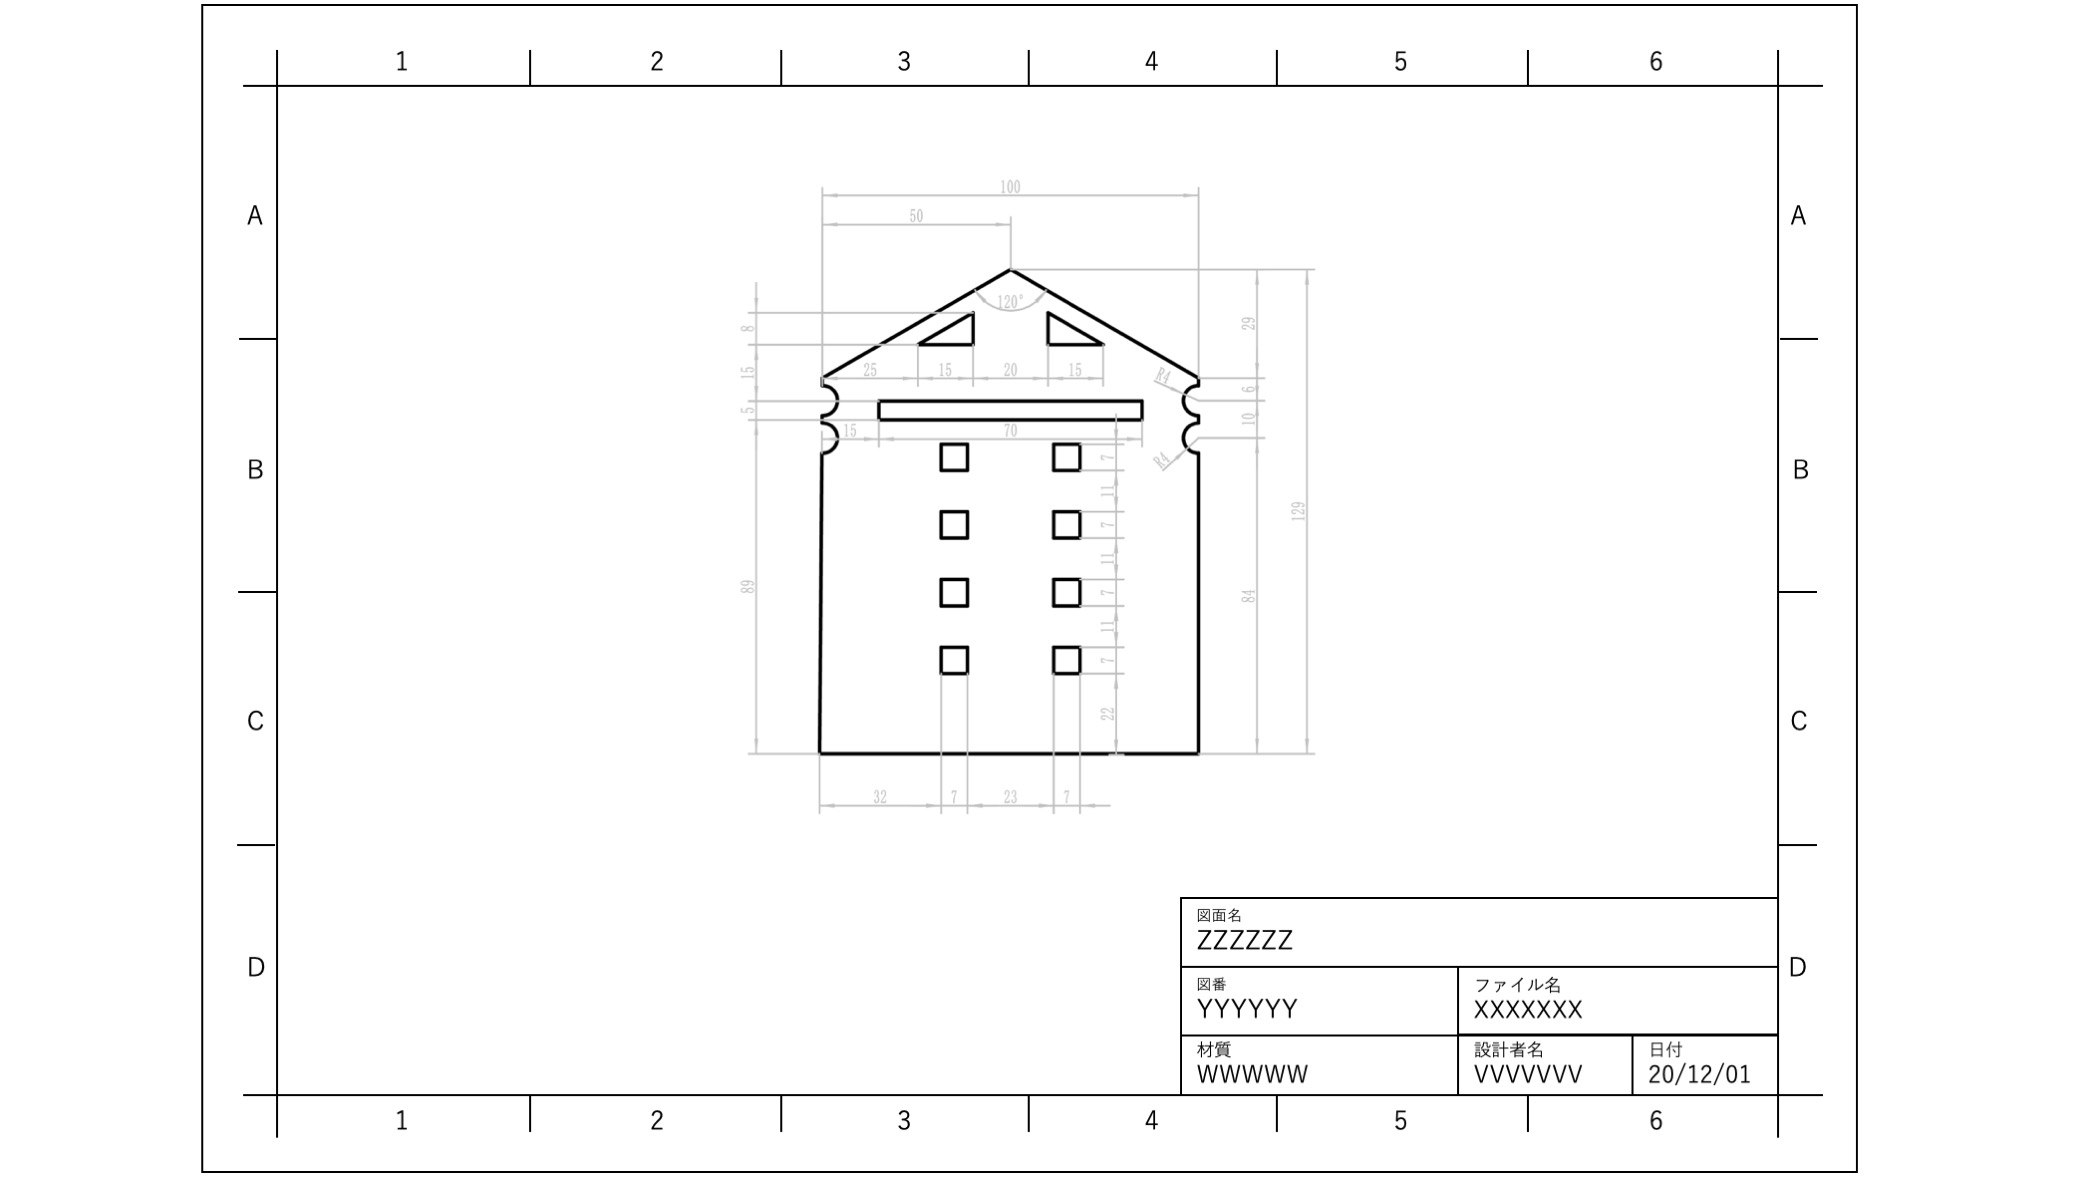rectangle: (870, 394, 1151, 425), (932, 570, 976, 614), (935, 503, 976, 547), (1047, 637, 1087, 682), (933, 435, 975, 476), (932, 642, 974, 682), (1046, 505, 1086, 545), (1046, 572, 1086, 611), (1046, 437, 1087, 474)
triangle: (914, 307, 979, 350), (1041, 307, 1103, 350)
